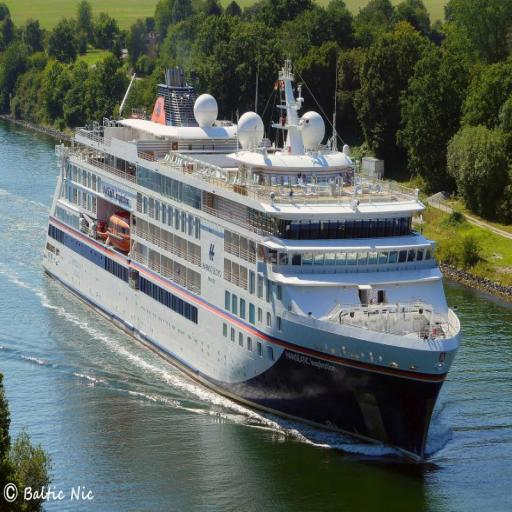cruises: (40, 59, 469, 466)
